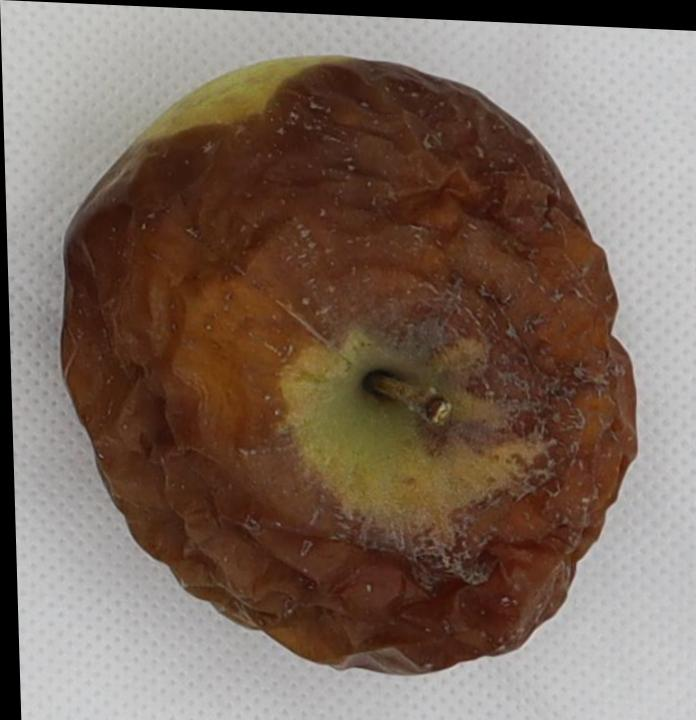apple: (61, 57, 635, 673)
rot_mold_decay: (63, 61, 635, 673)
